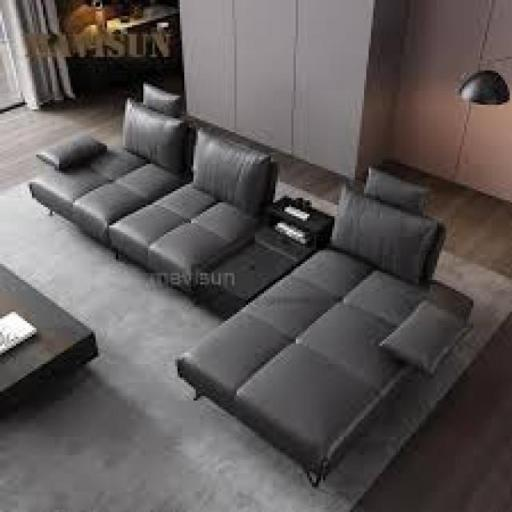sofa: (26, 67, 292, 303)
